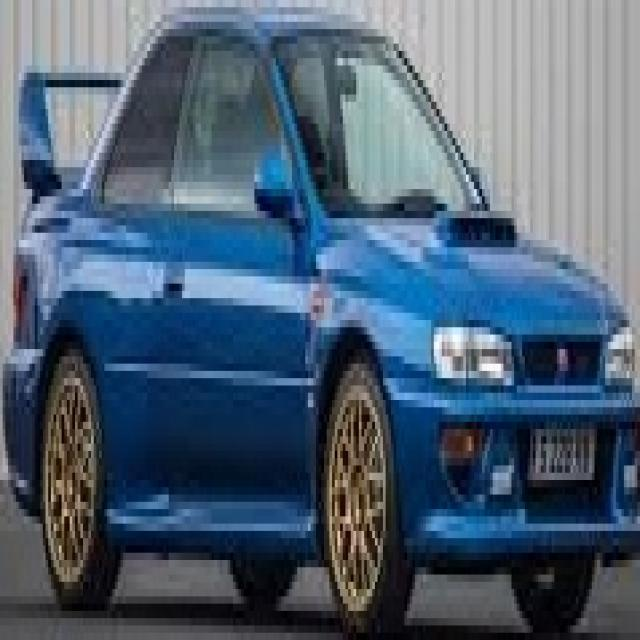blue: (8, 21, 640, 636)
